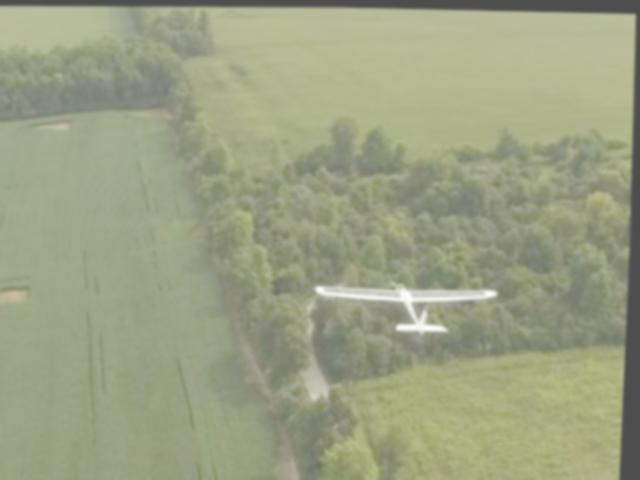uav: (310, 266, 508, 348)
